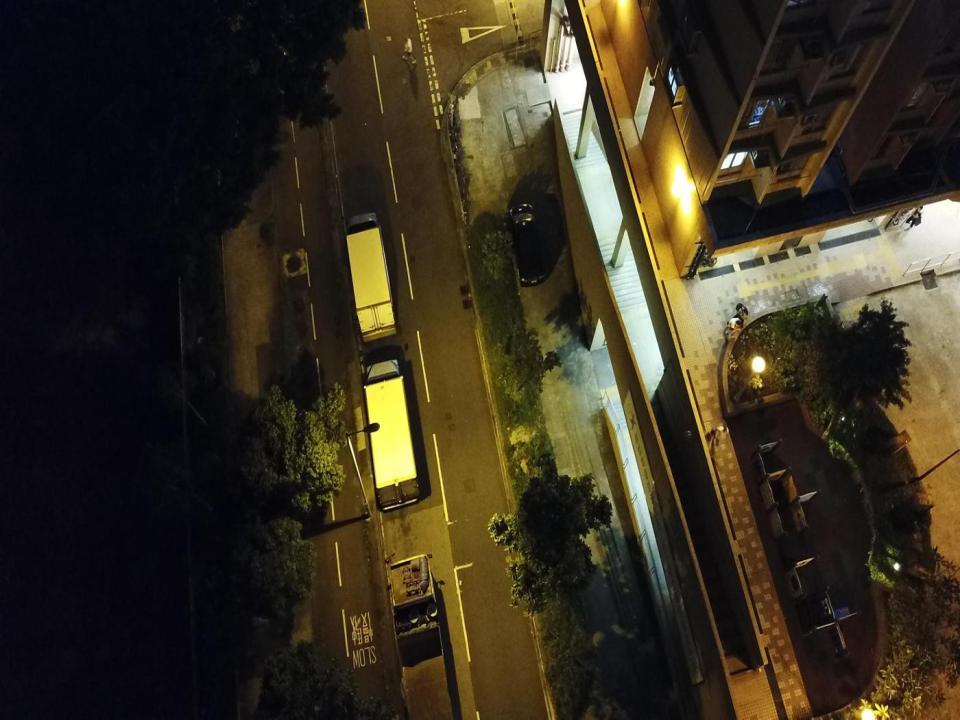car: (507, 202, 548, 287)
truck: (383, 552, 456, 719), (364, 356, 420, 512), (343, 210, 398, 343)
